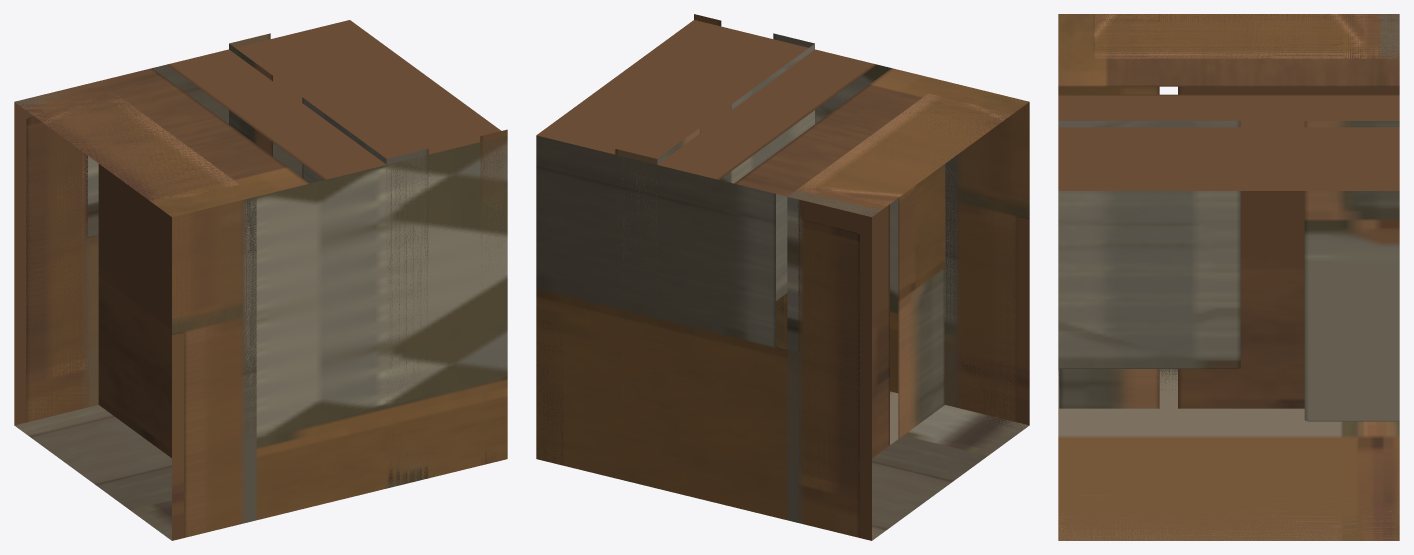
Rendered from section-5.obj.
3 renders of one model, left to right at view 1: azimuth 30°, elevation 25°; view 2: azimuth 150°, elevation 25°; view 3: azimuth 270°, elevation 25°, orthographic. The views are drawn at different scales.
Size of the model in its own units: 1 by 0.9383 by 0.8142.
